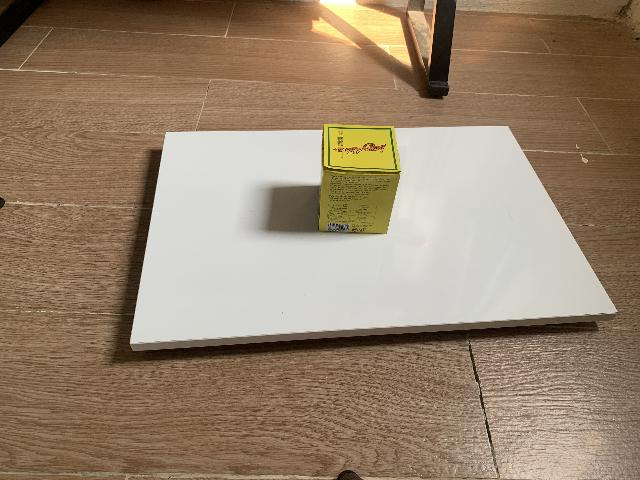luong_kho: (318, 124, 401, 235)
